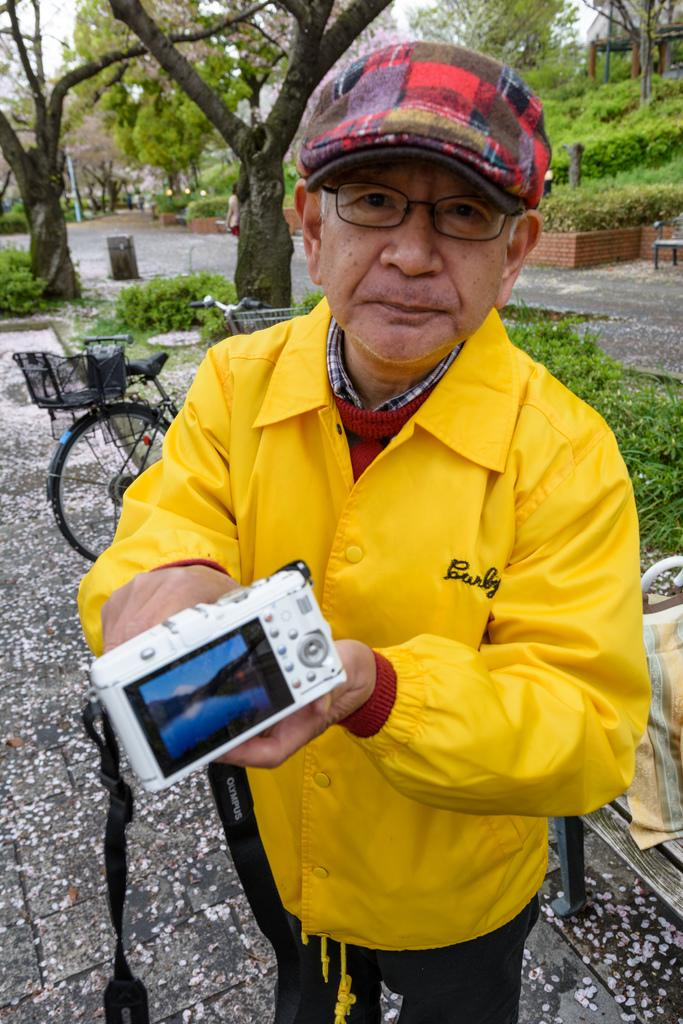Hat: (297, 39, 550, 230)
